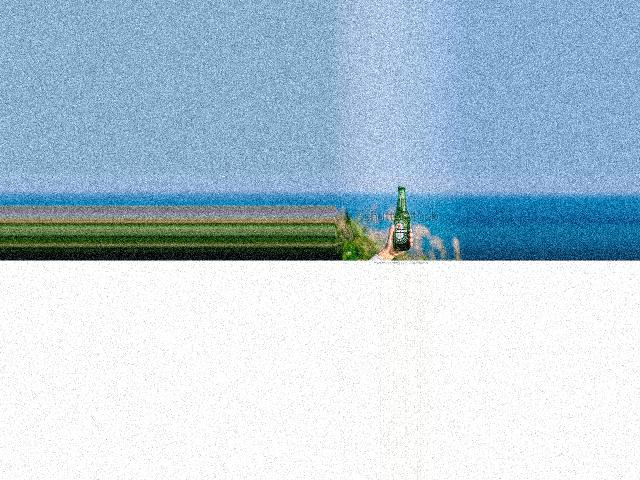beer: (393, 186, 409, 251)
